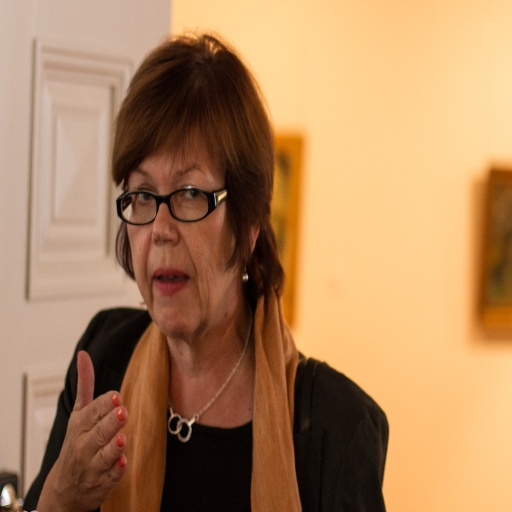hand: (45, 365, 131, 499)
